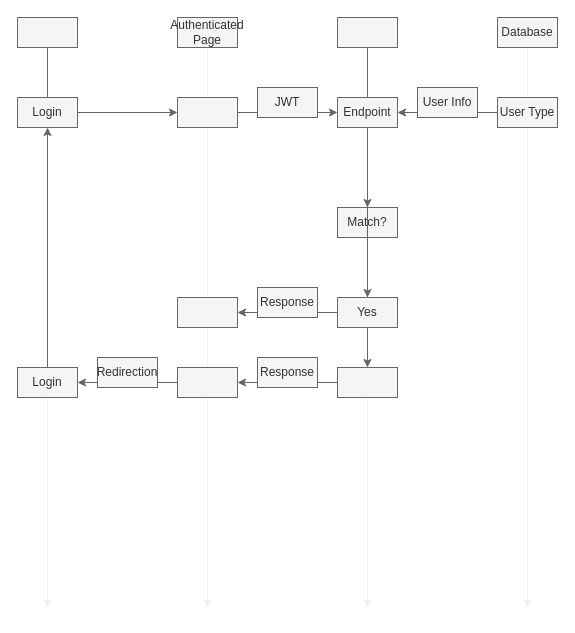
Image size: 575x633. Some labels were removed from this diagram. The shapes that lost their labels are listed below. From the top down, each one's centre as x and y in pixels, then its label:
At point (47, 32): "Login Page".
At point (367, 32): "Backend".
At point (207, 112): "Attempted Access".
At point (207, 312): "Grant Access".
At point (207, 382): "Redirect".
At point (367, 382): "No".
